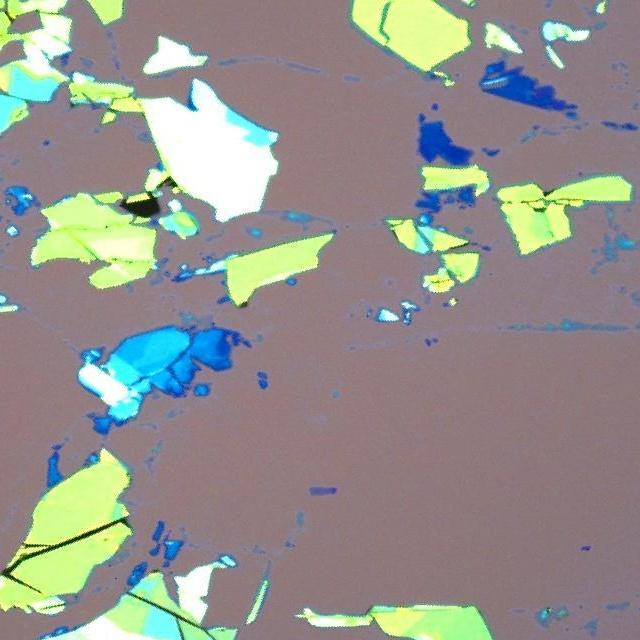monolayer-eWW4: (308, 486, 332, 496)
